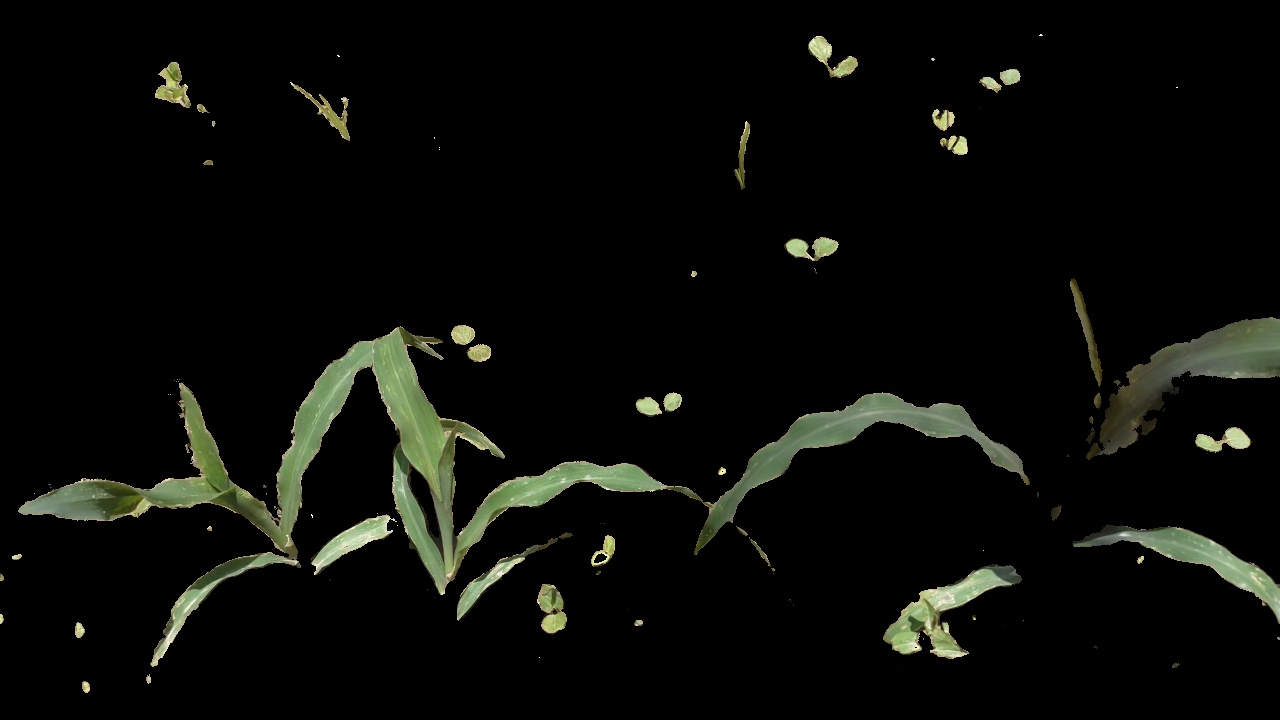crop: (691, 265, 1250, 717), (11, 307, 367, 653), (369, 316, 518, 610)
weed: (157, 58, 235, 136), (296, 87, 378, 139), (1186, 414, 1257, 471), (717, 111, 770, 179), (805, 30, 860, 81), (622, 385, 698, 421), (934, 97, 976, 162), (780, 219, 835, 265), (534, 575, 569, 636), (454, 316, 493, 363), (979, 58, 1024, 94), (591, 527, 624, 574)
